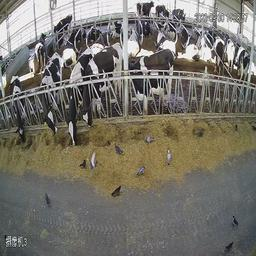cow: (79, 41, 123, 130), (66, 45, 94, 147), (128, 49, 175, 107), (40, 48, 61, 140), (8, 75, 27, 143), (35, 33, 48, 80), (178, 41, 199, 64), (54, 14, 75, 37), (236, 45, 248, 85), (214, 31, 223, 79), (136, 2, 155, 22), (171, 7, 187, 30), (109, 16, 123, 39), (156, 3, 169, 22)
